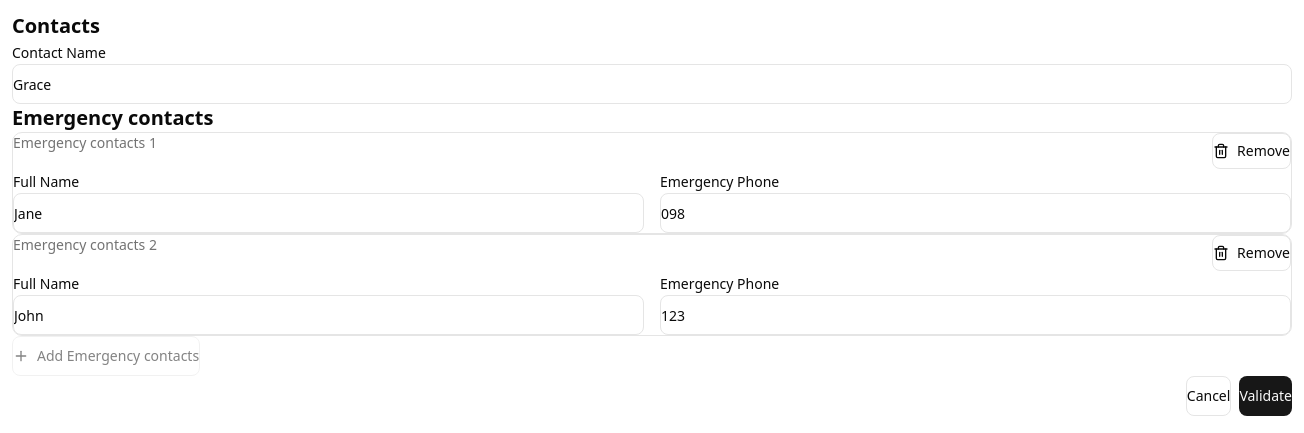
PopinFormSession nested block › given a nested block at the bottom of the popin, should show its title once and use its limit and layout
expect the 1st field showing "Jane" is shown: met, box [13,193,644,233]
expect the heading with test id "block-title-contacts-block-instance" reads "Contacts": met, box [12,12,100,39]
Click the button with aria-label "Remove Emergency contacts 1". click: (1252, 151)
box: [1212,133,1291,169]
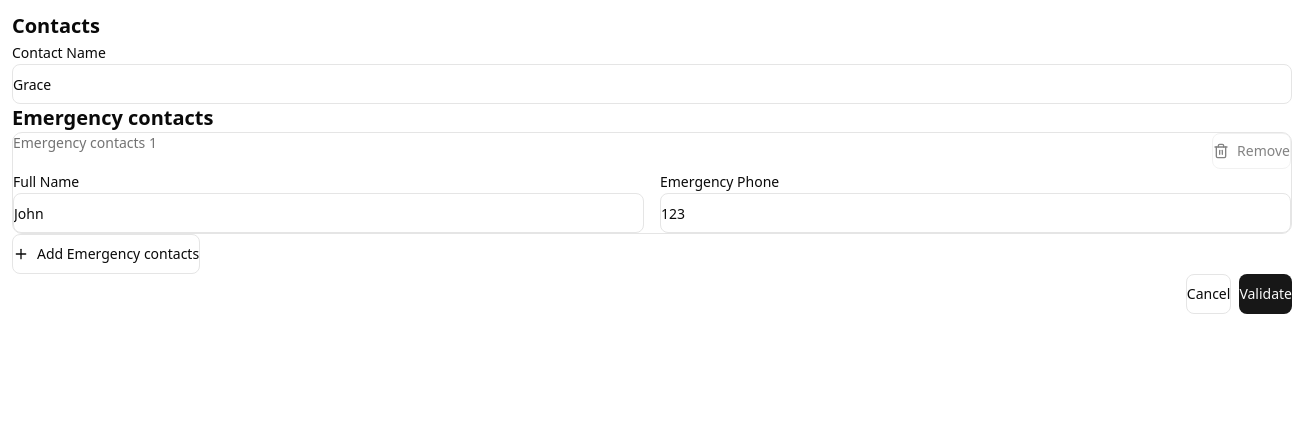
expect the button with aria-label "Remove Emergency contacts 1" is disabled: met, box [1212,133,1291,169]
expect the button "Add Emergency contacts" is enabled: met, box [12,234,200,274]
